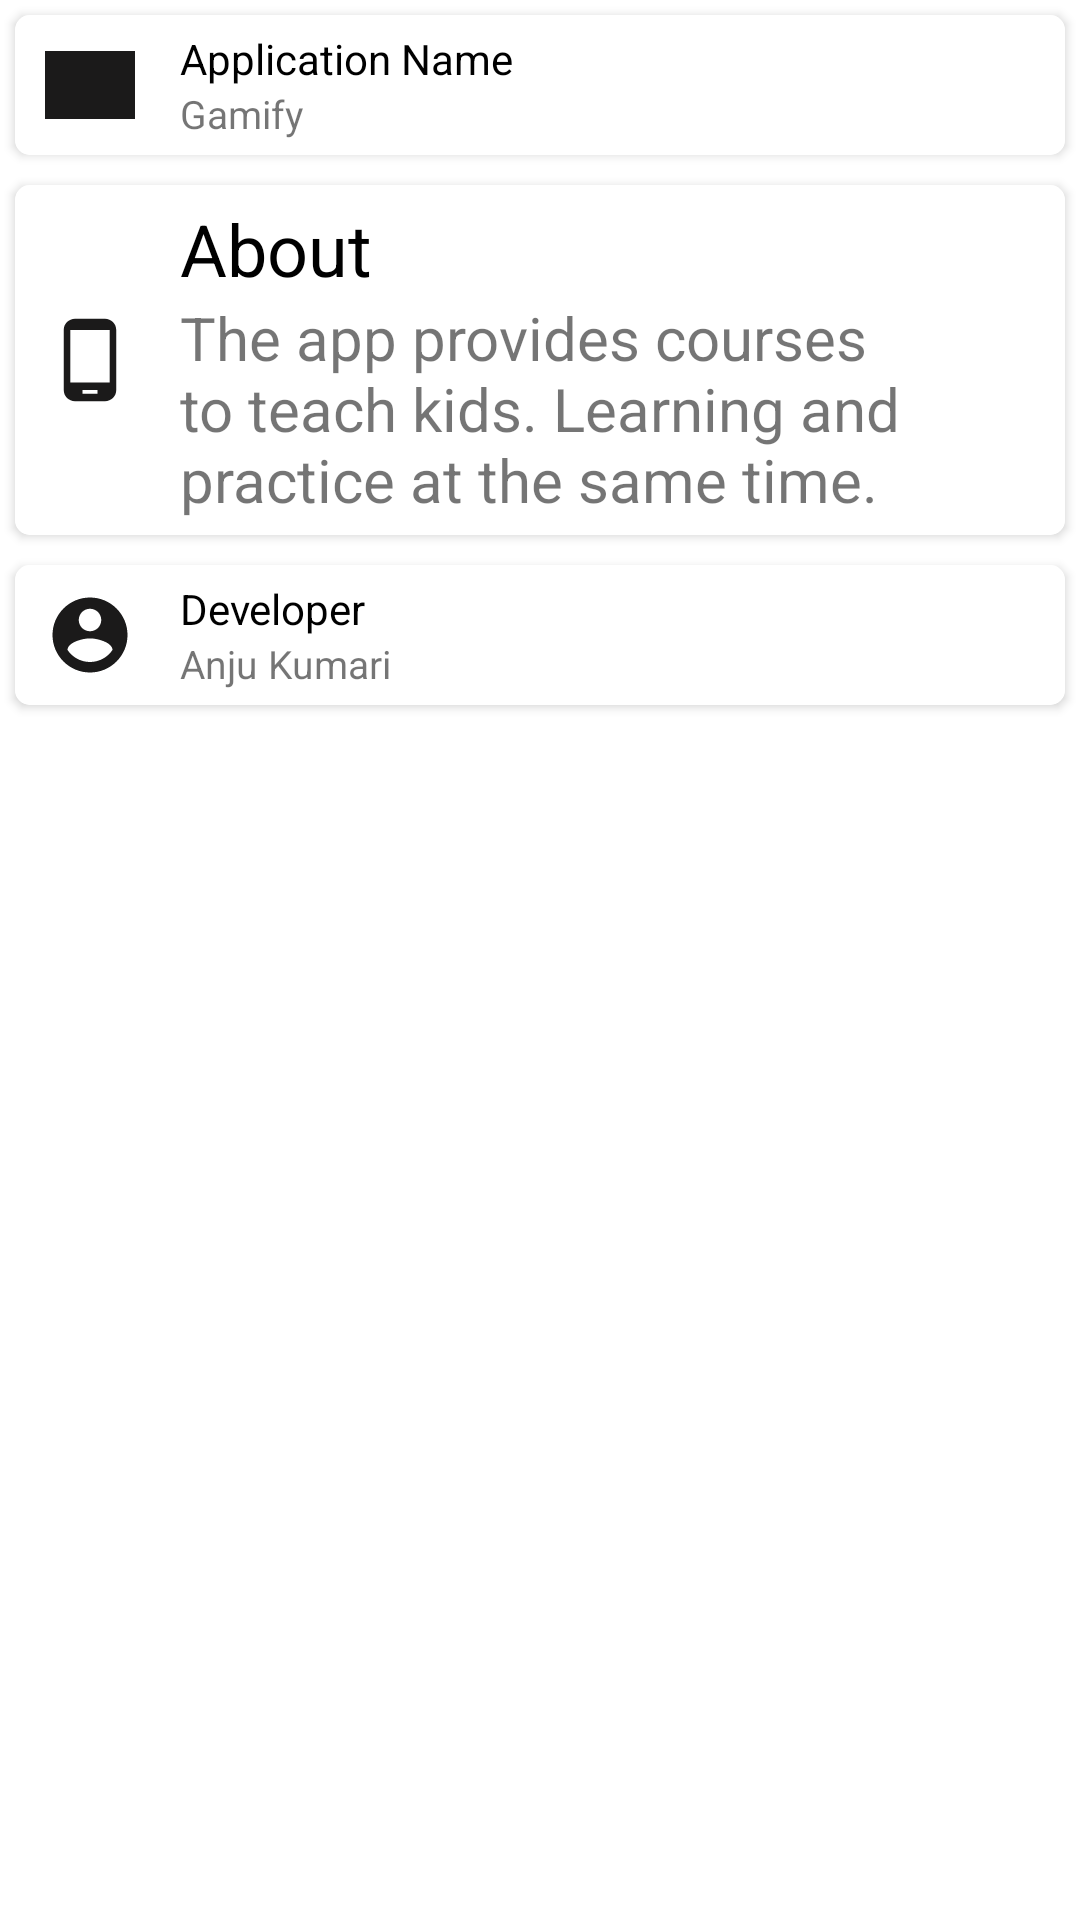

Screen size 1080px×1920px. Icon name, then its box in pixels as (x1, y1, x2, y2):
mobile: (63, 318, 117, 402)
user: (52, 597, 128, 673)
